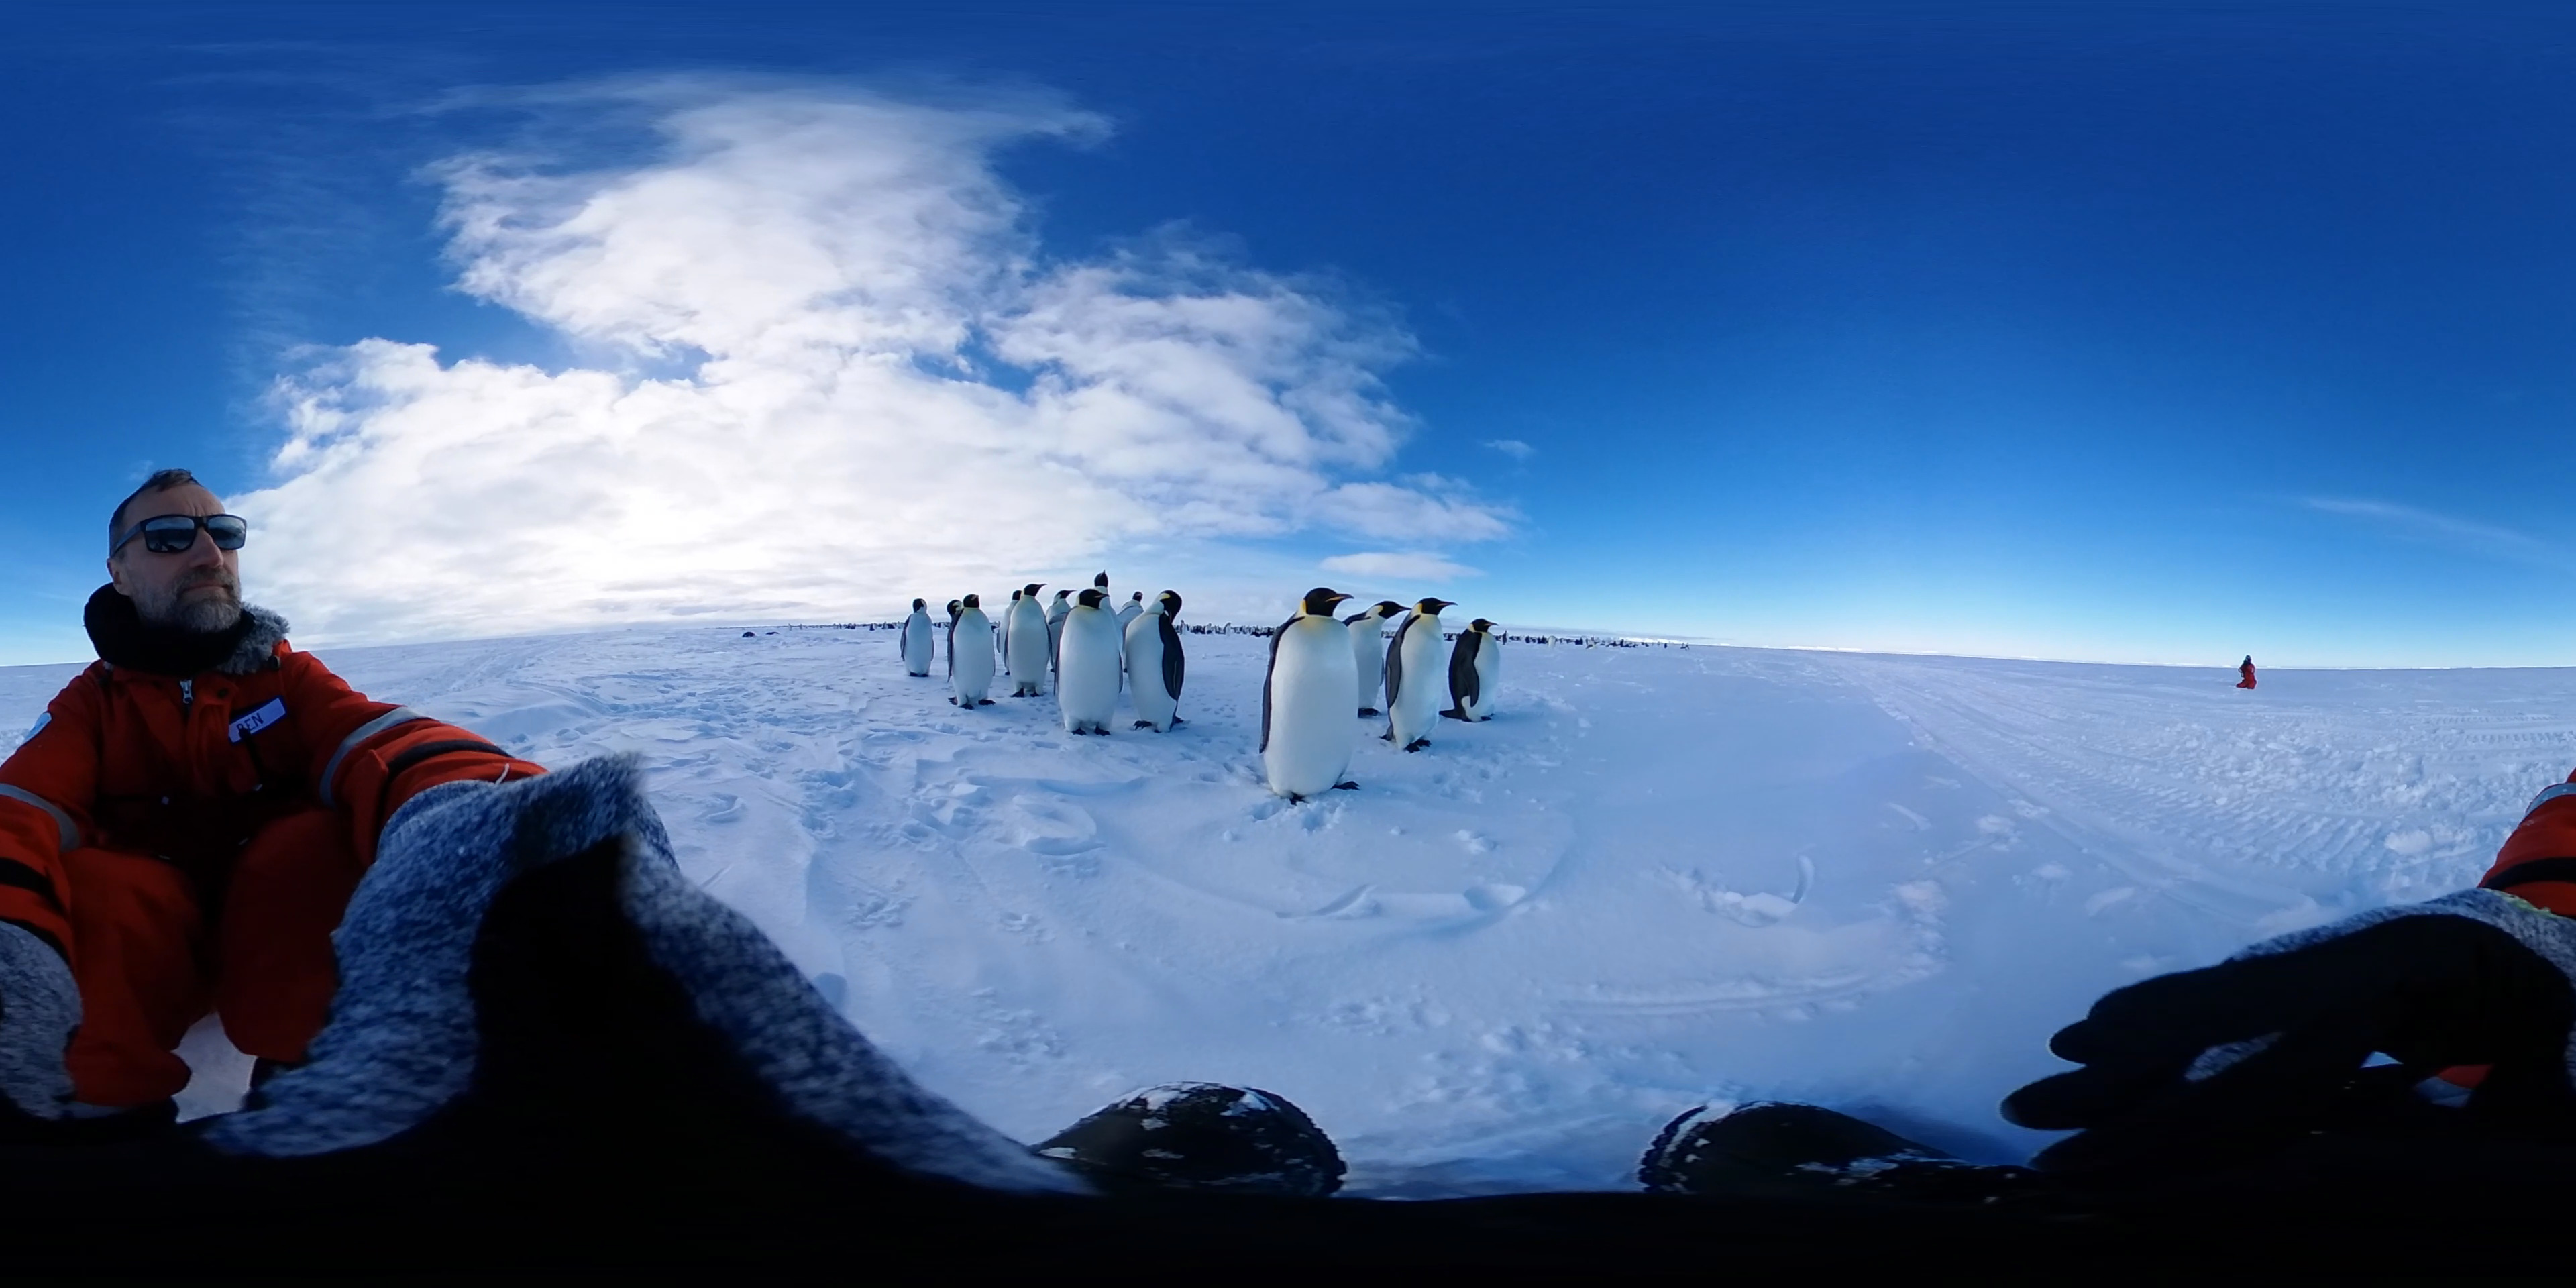adult_standing_penguin: (1253, 582, 1375, 808), (1117, 586, 1191, 744), (1053, 586, 1124, 743), (1390, 586, 1451, 757), (1342, 588, 1406, 734), (1446, 611, 1511, 733), (943, 595, 1000, 711), (1004, 580, 1050, 698), (897, 595, 940, 682), (1114, 582, 1150, 682), (1048, 585, 1079, 683)
researcher: (2, 467, 554, 1199), (2234, 654, 2257, 695)
